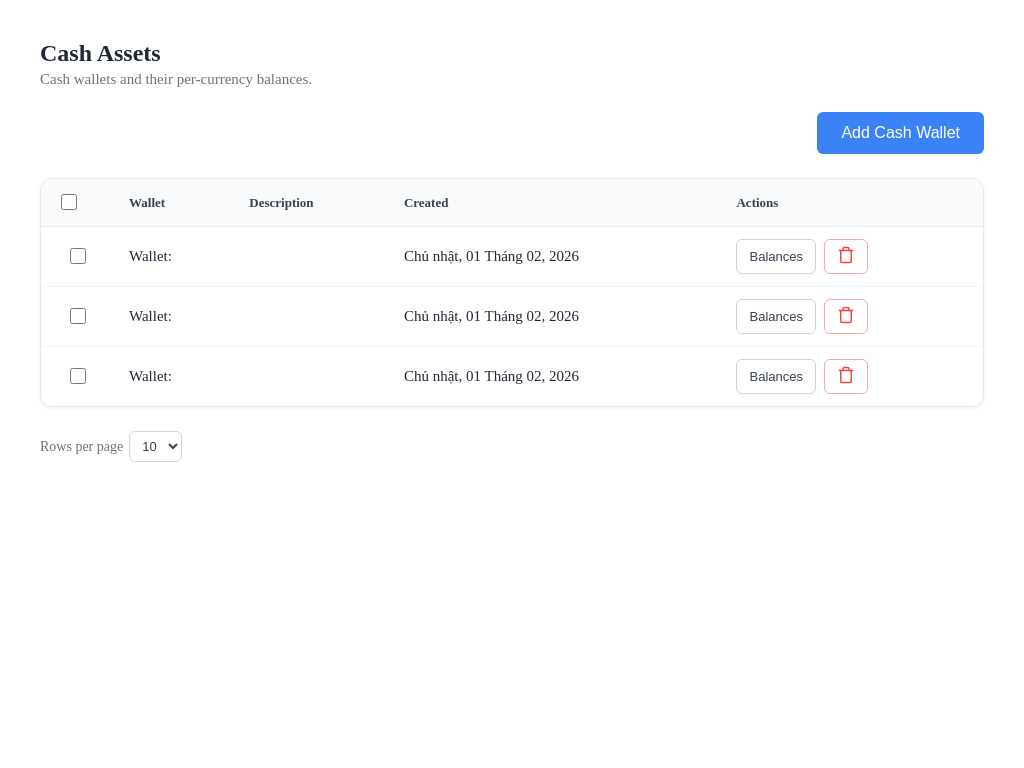
Test: CashAssets (page) › bulk-deletes wallets, collapsing the expanded one and evicting its cache
Check: the text "Wallet:" is shown 3 times, box [113,226,233,286]; [113,286,233,346]; [113,346,233,406]
Click the 1st button "Balances". click: (776, 256)
box: [736,239,816,274]
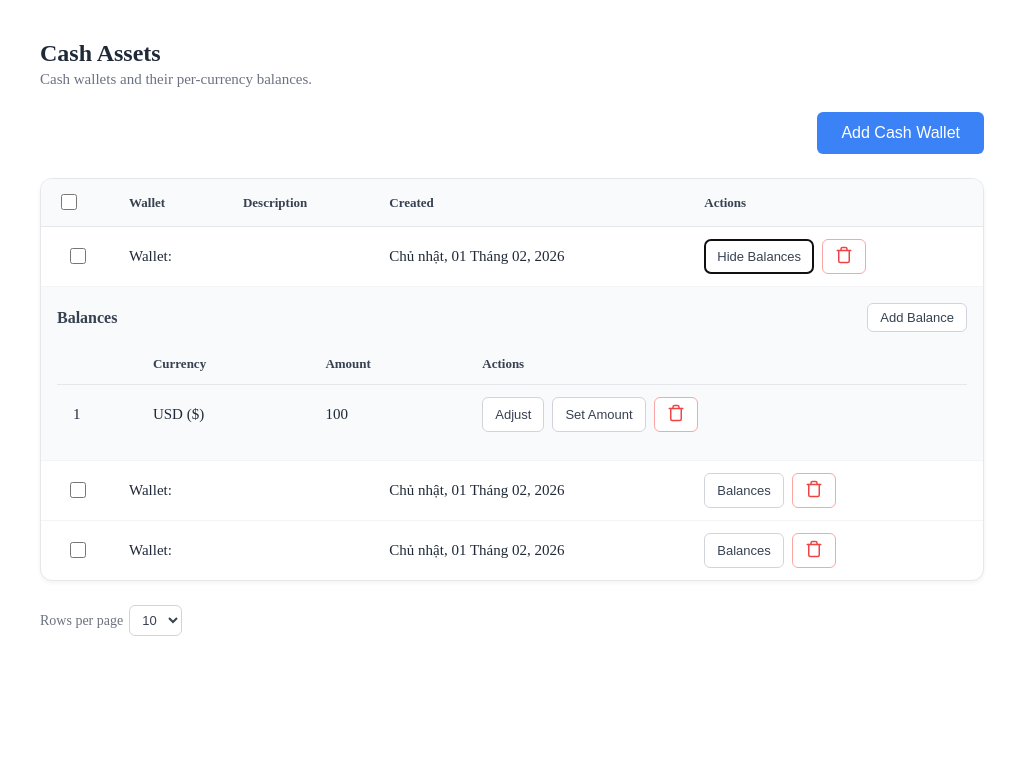
Check: the text "USD ($)" is shown, box [137,384,309,444]
Click the checkbox named "Select row 7". click: (78, 256)
box: [70,248,86,264]
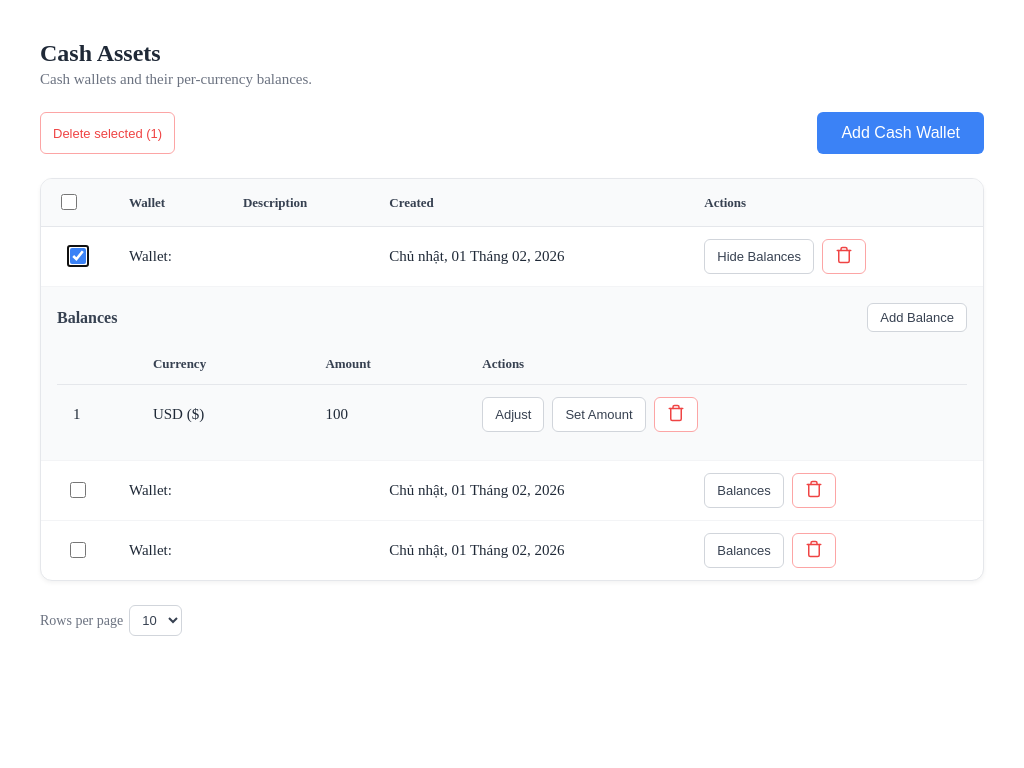
Click the checkbox named "Select row 9". click: (78, 550)
box: [70,542,86,558]
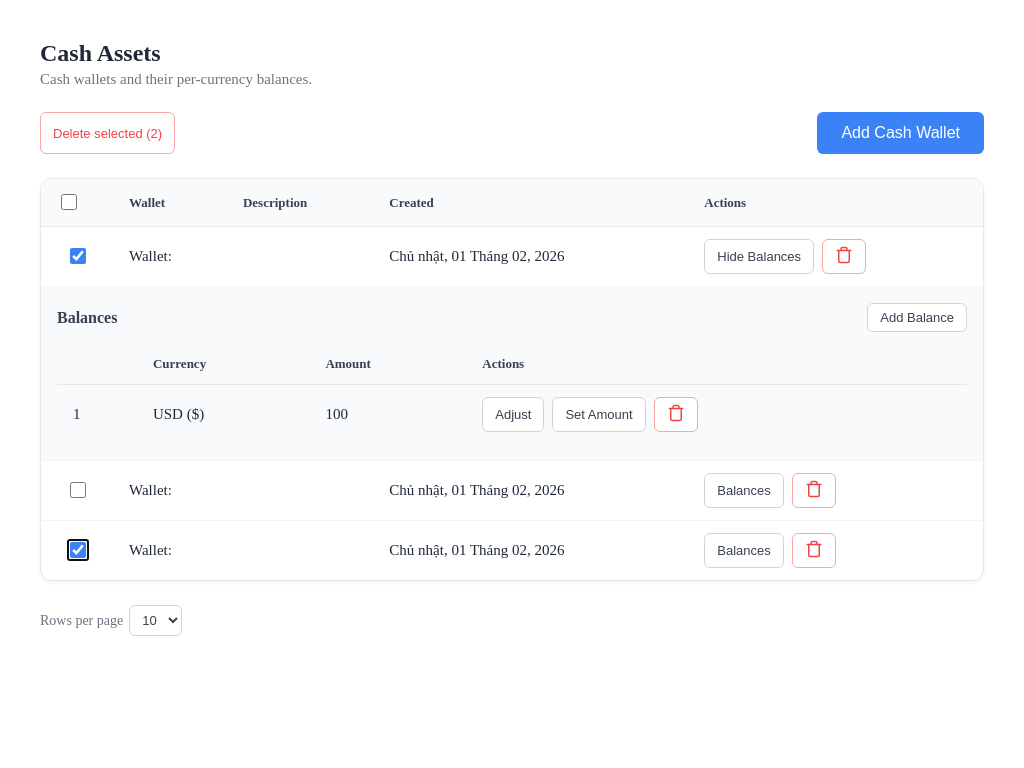
Click the button "Delete selected (2)". click: (108, 133)
box: [40,112,175,154]
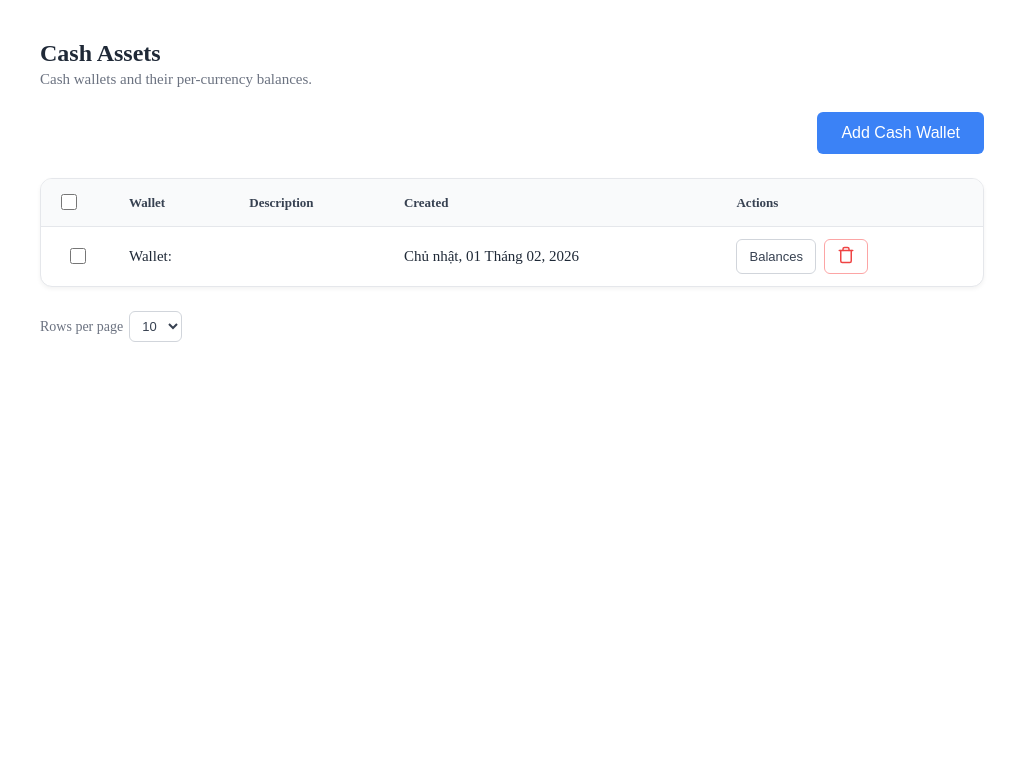
Check: the text "Wallet:" is shown once, box [113,226,233,286]
Check: the button "Delete selected (2)" is gone
Check: the text "USD ($)" is gone
